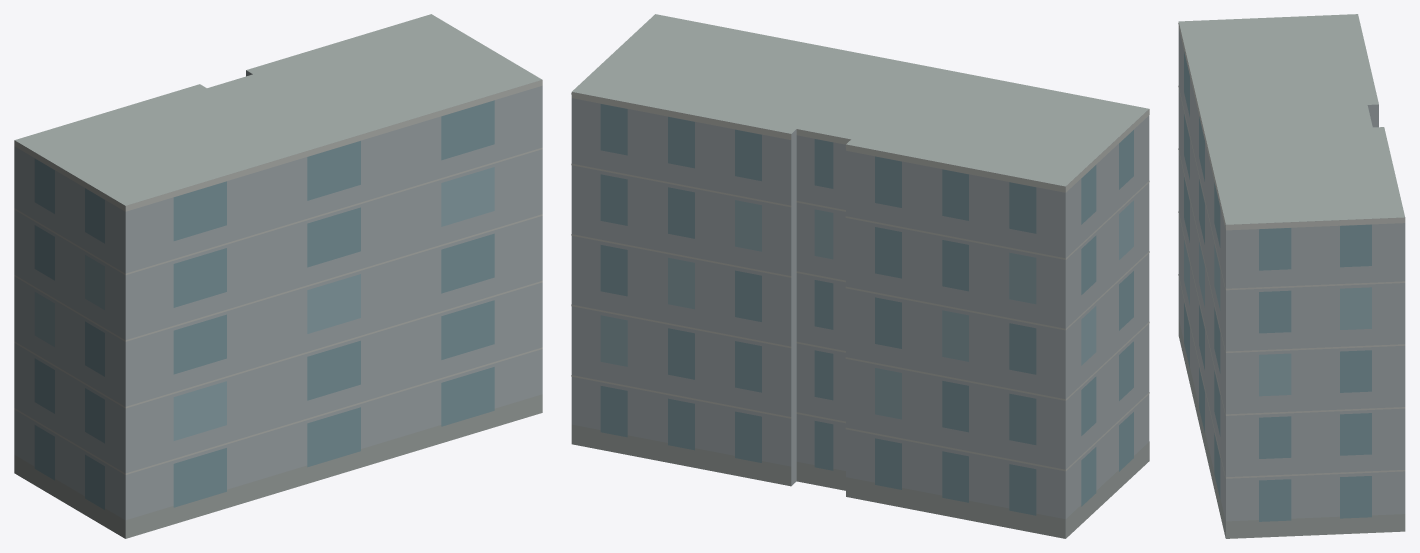
File: survey-upis-32627958.glb
The picture shows the model from 3 angles, left to right: view 1: azimuth 30°, elevation 25°; view 2: azimuth 150°, elevation 25°; view 3: azimuth 270°, elevation 25°; orthographic projection. The views are drawn at different scales.
Visible parts, largest first — view 1: survey-upis-32627958.tmp; view 2: survey-upis-32627958.tmp; view 3: survey-upis-32627958.tmp.
Part boxes in pixels (x1,y1,x2,y2): survey-upis-32627958.tmp: [14, 14, 542, 538]; survey-upis-32627958.tmp: [571, 14, 1149, 538]; survey-upis-32627958.tmp: [1178, 14, 1405, 538].
Size of the model in its own units: 19.6 by 13.6 by 8.92.
